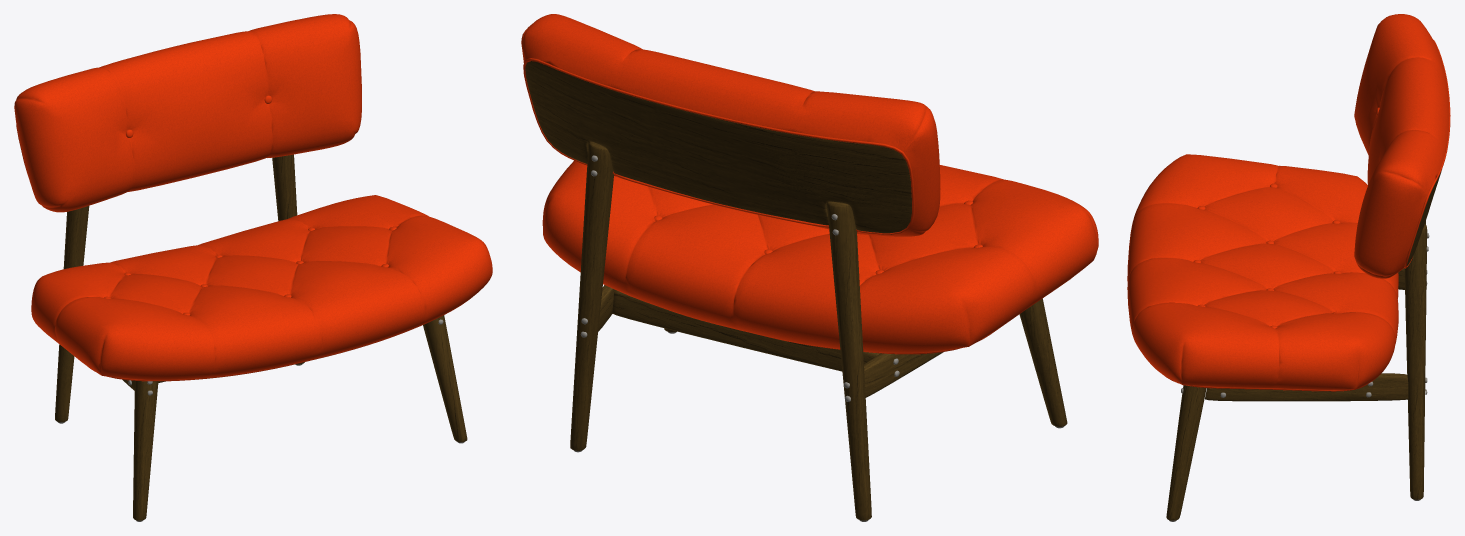
The model's file is sessel_samt.gltf.
3 renders of one model, left to right at view 1: azimuth 30°, elevation 25°; view 2: azimuth 150°, elevation 25°; view 3: azimuth 270°, elevation 25°, orthographic. The views are drawn at different scales.
Visible parts, largest first — view 1: SheenChair_fabric, SheenChair_wood; view 2: SheenChair_fabric, SheenChair_wood; view 3: SheenChair_fabric, SheenChair_wood.
Part boxes in pixels (left/top/right/bottom): SheenChair_fabric: left=14, top=14, right=492, bottom=381; SheenChair_wood: left=55, top=154, right=467, bottom=520; SheenChair_fabric: left=521, top=14, right=1098, bottom=354; SheenChair_wood: left=525, top=61, right=1067, bottom=520; SheenChair_fabric: left=1127, top=14, right=1450, bottom=391; SheenChair_wood: left=1166, top=170, right=1441, bottom=520.
Bounding box in the file's own units: 0.8266 × 0.6862 × 0.5702.
3 materials, 2 textured.
